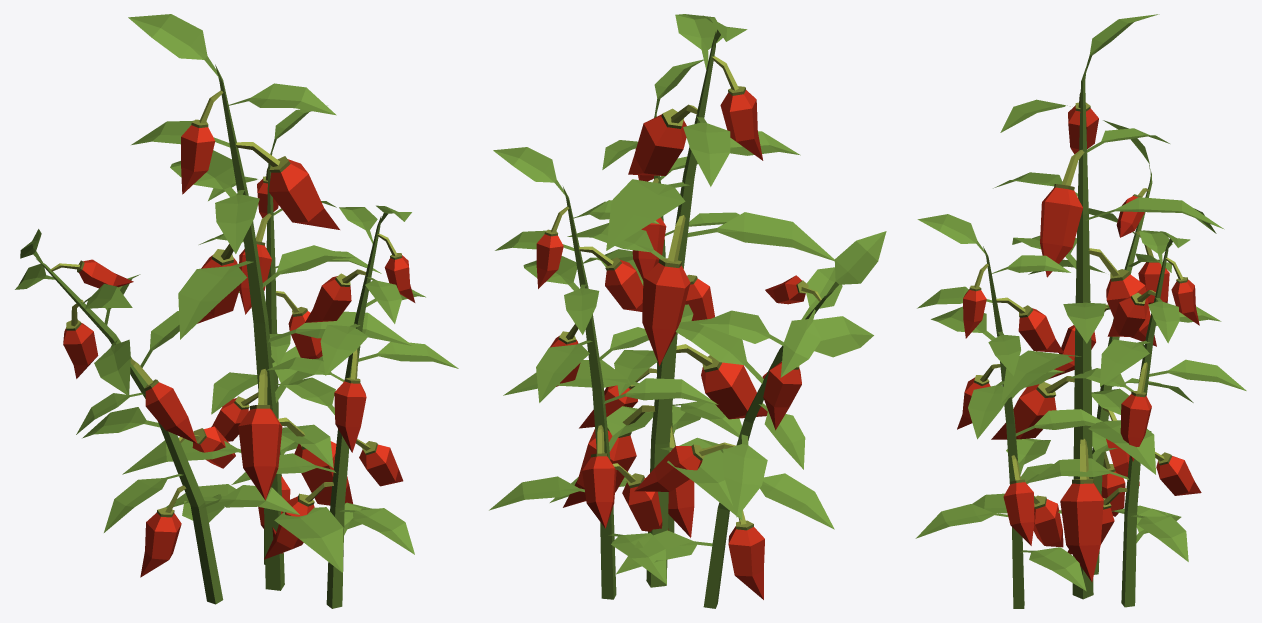
Rendered from CS_Plant_06_L3.fbx.
3 renders of one model, left to right at view 1: azimuth 30°, elevation 25°; view 2: azimuth 150°, elevation 25°; view 3: azimuth 270°, elevation 25°, orthographic. The views are drawn at different scales.
Parts seen in each view (by area): view 1: Plant_06_L3_d, Plant_06_L3_c, Plant_06_L3_a, Plant_06_L3_b; view 2: Plant_06_L3_d, Plant_06_L3_c, Plant_06_L3_b, Plant_06_L3_a; view 3: Plant_06_L3_d, Plant_06_L3_a, Plant_06_L3_b, Plant_06_L3_c.
Boxes of the visible parts, bbox=[...] form: Plant_06_L3_d: bbox=[122, 14, 412, 590]; Plant_06_L3_c: bbox=[15, 229, 299, 604]; Plant_06_L3_a: bbox=[231, 205, 458, 608]; Plant_06_L3_b: bbox=[165, 105, 381, 564]; Plant_06_L3_d: bbox=[503, 14, 834, 587]; Plant_06_L3_c: bbox=[616, 231, 886, 608]; Plant_06_L3_b: bbox=[489, 147, 718, 599]; Plant_06_L3_a: bbox=[550, 59, 741, 537]; Plant_06_L3_d: bbox=[972, 14, 1224, 599]; Plant_06_L3_a: bbox=[915, 214, 1102, 608]; Plant_06_L3_b: bbox=[1028, 230, 1246, 607]; Plant_06_L3_c: bbox=[1020, 120, 1216, 574].
Bounding box in the file's own units: 0.7509 × 1.15 × 0.6381.
